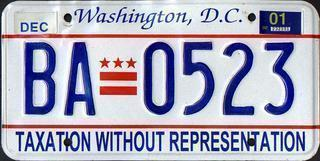placa de veiculo: (8, 2, 307, 159)
